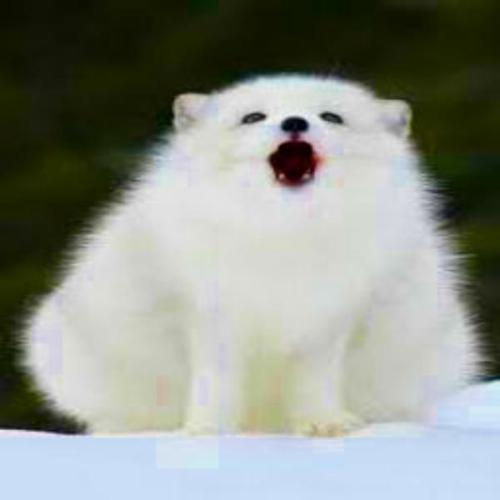arctic_fox-endangered: (19, 75, 480, 435)
